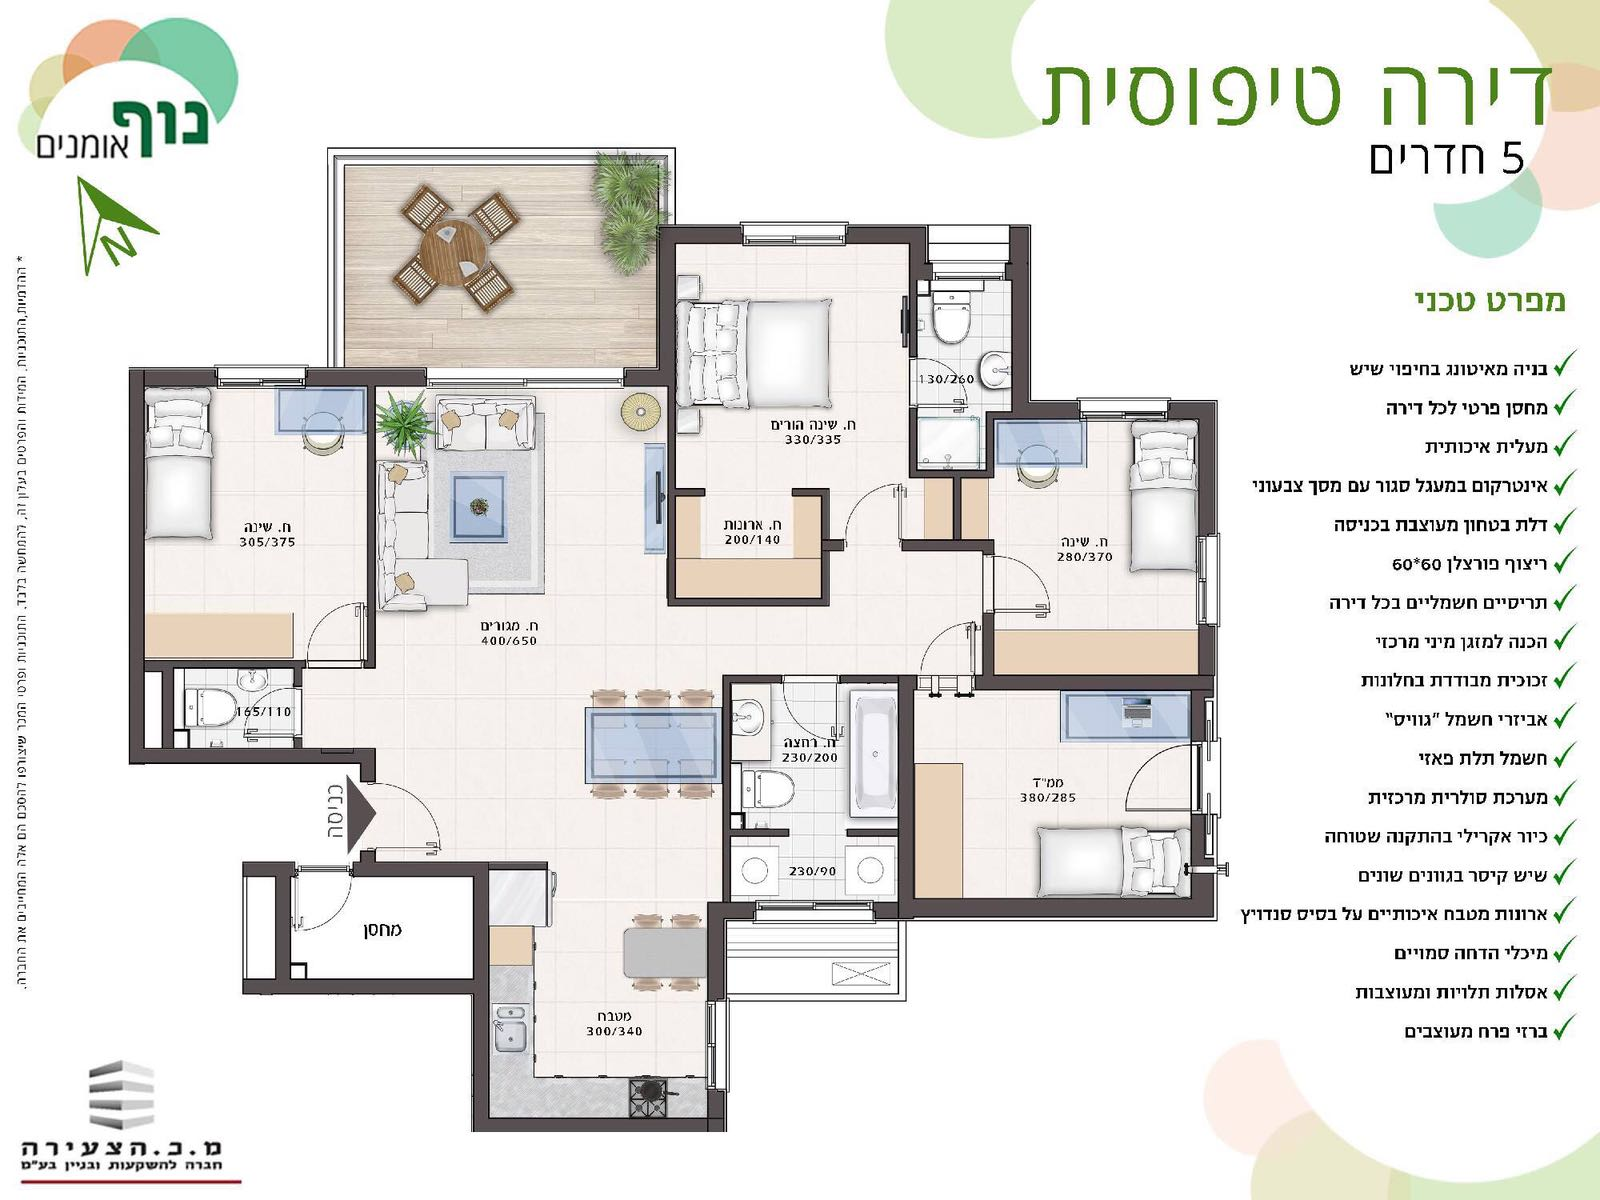door: (379, 782, 446, 855), (998, 548, 1063, 620), (917, 611, 981, 673), (843, 480, 907, 542), (779, 684, 842, 746), (307, 600, 367, 659)
wall: (129, 369, 144, 763), (913, 899, 1213, 915), (472, 863, 489, 1131), (243, 978, 474, 995), (976, 676, 1214, 691), (144, 749, 375, 764), (900, 674, 913, 919), (489, 1118, 708, 1133), (656, 224, 677, 386), (1198, 403, 1216, 534), (708, 903, 724, 1000)
window: (430, 368, 625, 389), (753, 899, 873, 921), (741, 223, 844, 245), (1196, 536, 1220, 626), (217, 367, 306, 391), (1078, 402, 1168, 424), (932, 262, 1008, 284)
